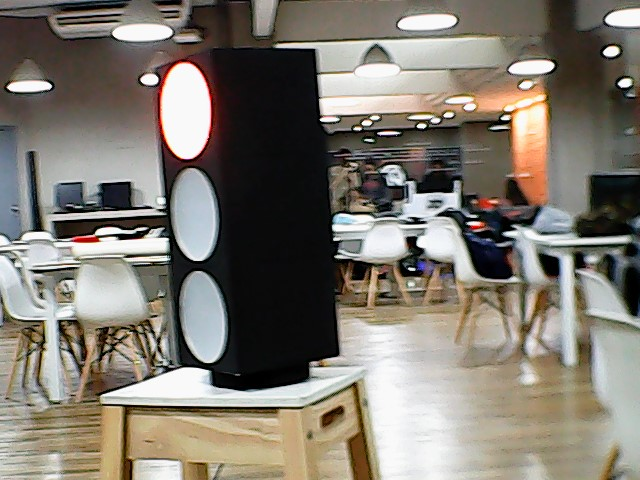vermelho: (146, 49, 341, 365)
